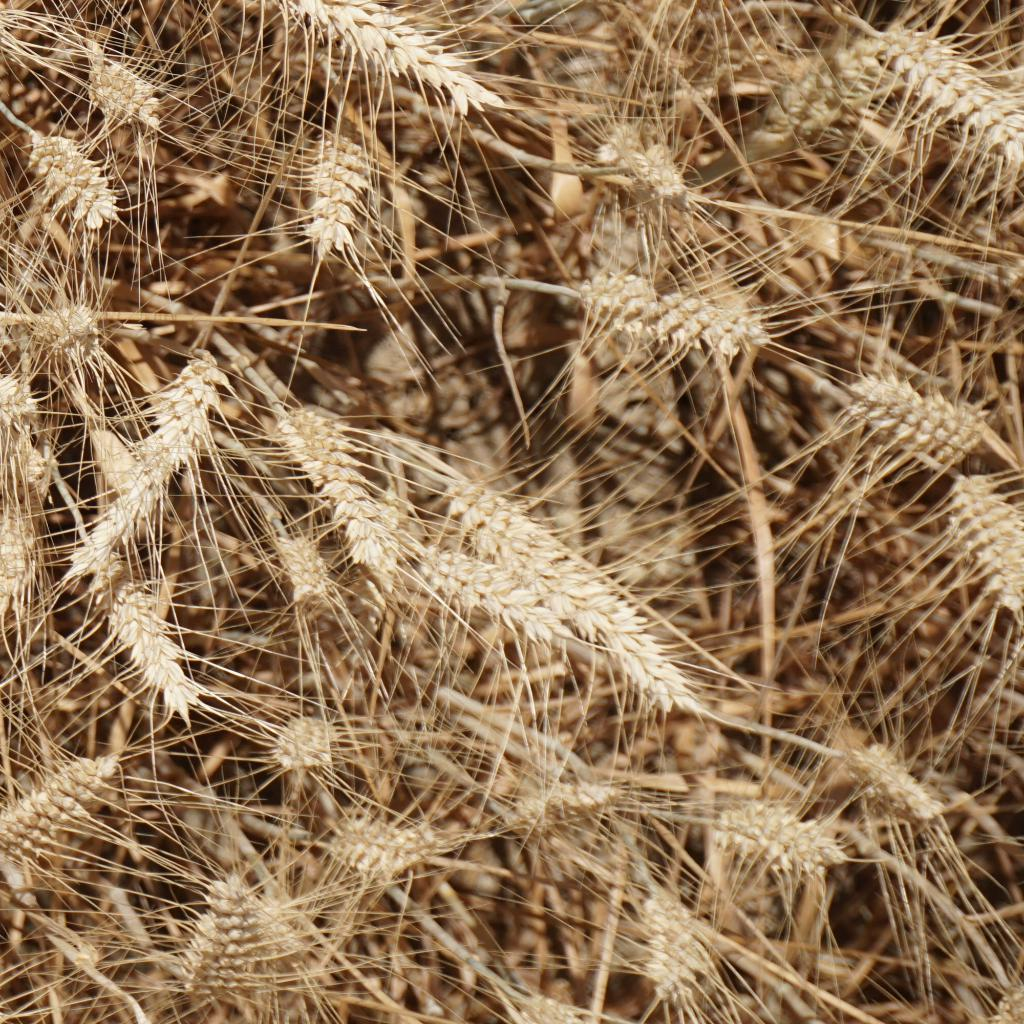0-0: (443, 478, 698, 712), (70, 351, 246, 574), (218, 0, 504, 112), (873, 10, 1024, 196), (267, 402, 401, 599), (565, 257, 777, 375), (101, 572, 210, 740), (166, 869, 286, 1005), (429, 527, 559, 651), (844, 362, 990, 466), (13, 118, 127, 236), (298, 126, 385, 274), (0, 752, 121, 854), (720, 787, 852, 876), (505, 754, 637, 838), (316, 805, 442, 891), (585, 114, 696, 211), (954, 472, 1024, 619), (638, 891, 714, 1021), (67, 47, 177, 130), (846, 746, 937, 833), (261, 703, 343, 787), (275, 527, 344, 604), (30, 287, 105, 356), (491, 984, 613, 1024), (0, 514, 42, 618), (1, 430, 53, 506), (965, 962, 1022, 1024), (0, 371, 41, 436), (0, 4, 29, 61)
